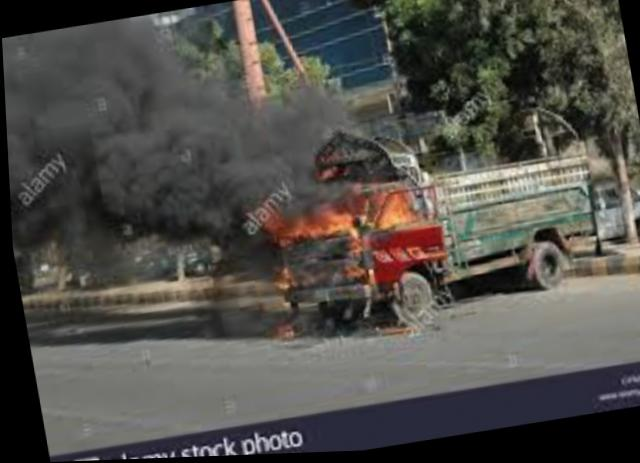fire: (242, 159, 440, 266)
